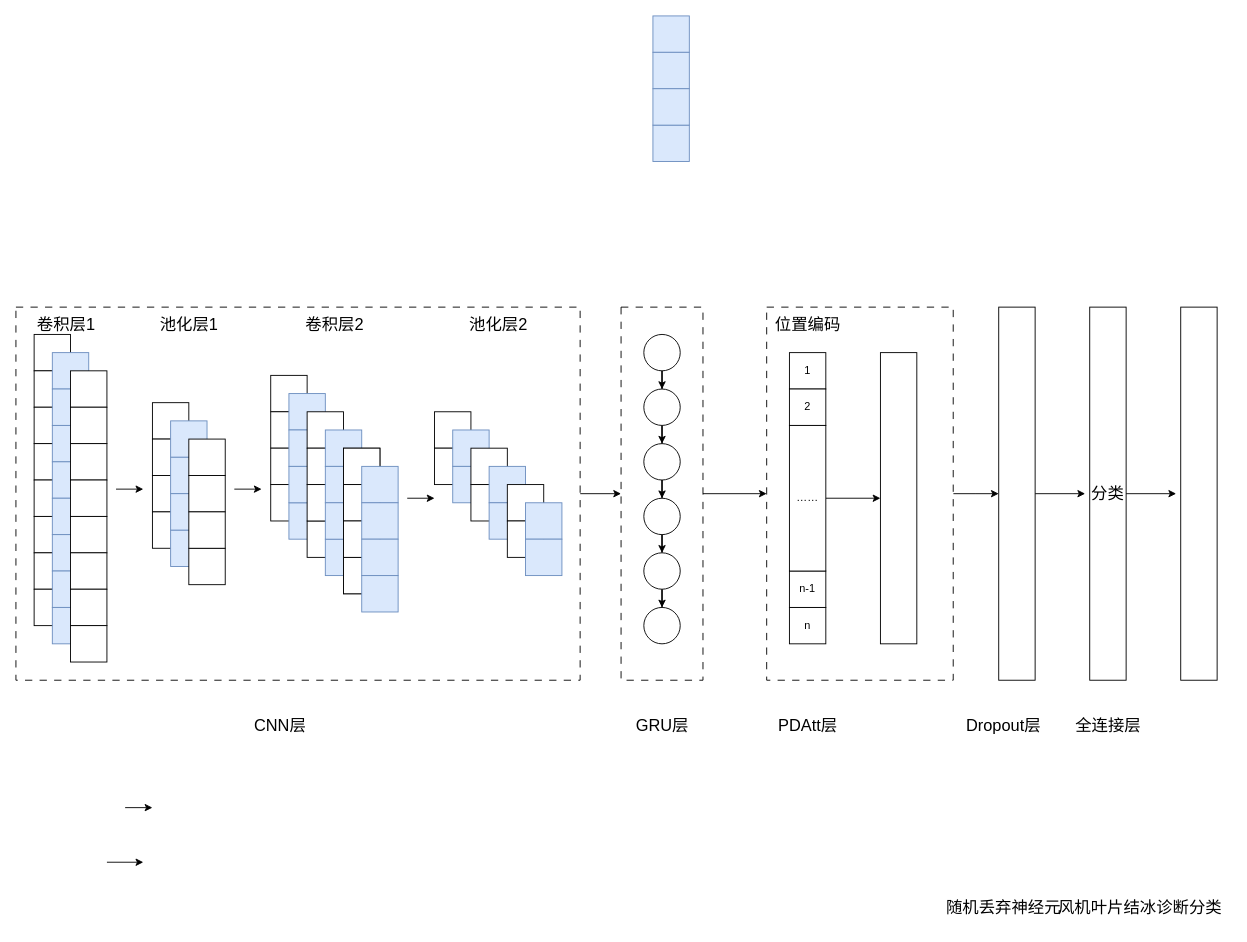
The diagram is 1247 pixels wide and 942 high, and some of its shapes have lost their labels. Each missing label, with the centre of its shape:
"动态权重生成" belongs at point 898,498.
"随机丢弃部分神经元" belongs at point 1016,493.
"风机叶片结冰诊断结果输出" belongs at point 1198,493.
